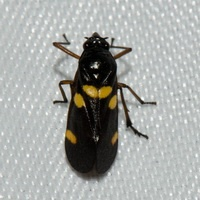insect: (53, 32, 155, 172)
